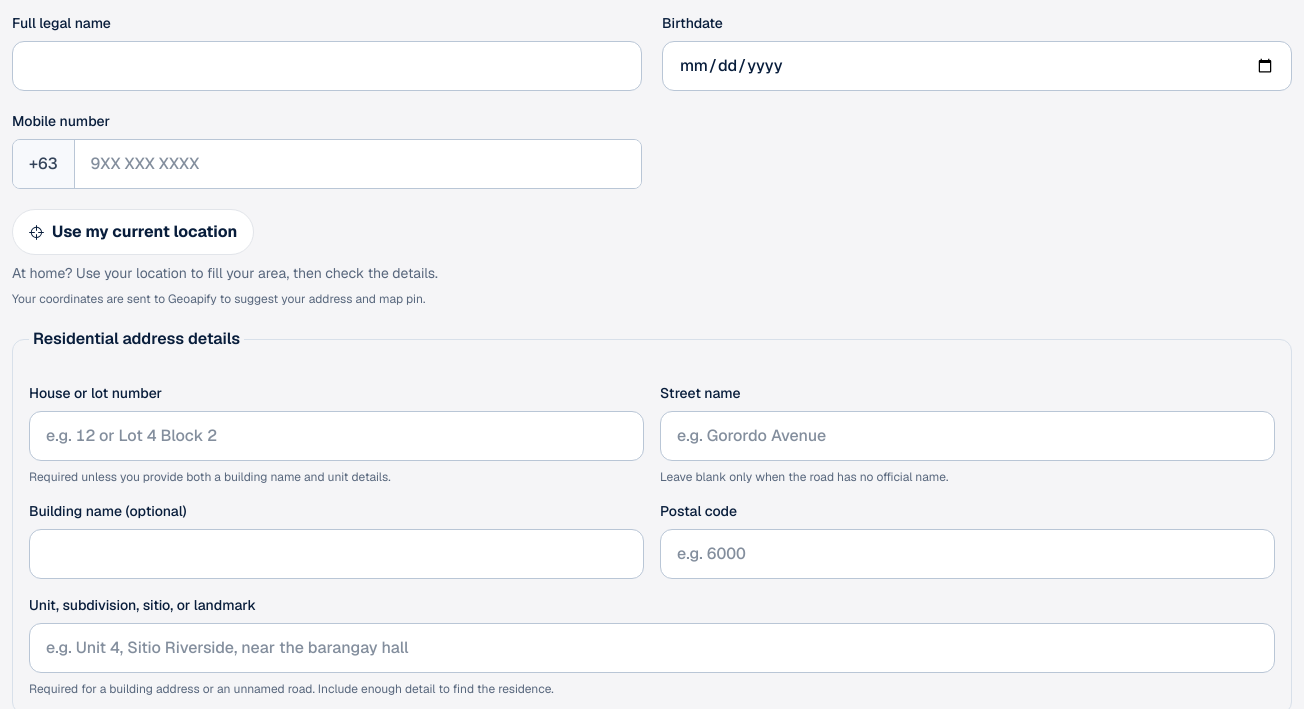
Scenario: preserves entered KYC details after authorization fails
Type "Synthetic Renter" into the field labelled "Full legal name" at (327, 66), box top-left (12, 41), bottom-right (642, 91)
Type "1990-01-15" into the date field labelled "Birthdate" at (977, 66), box top-left (662, 41), bottom-right (1292, 91)
Type "+639170000000" into the field labelled "Mobile number +63" at (358, 164), box top-left (75, 140), bottom-right (641, 188)
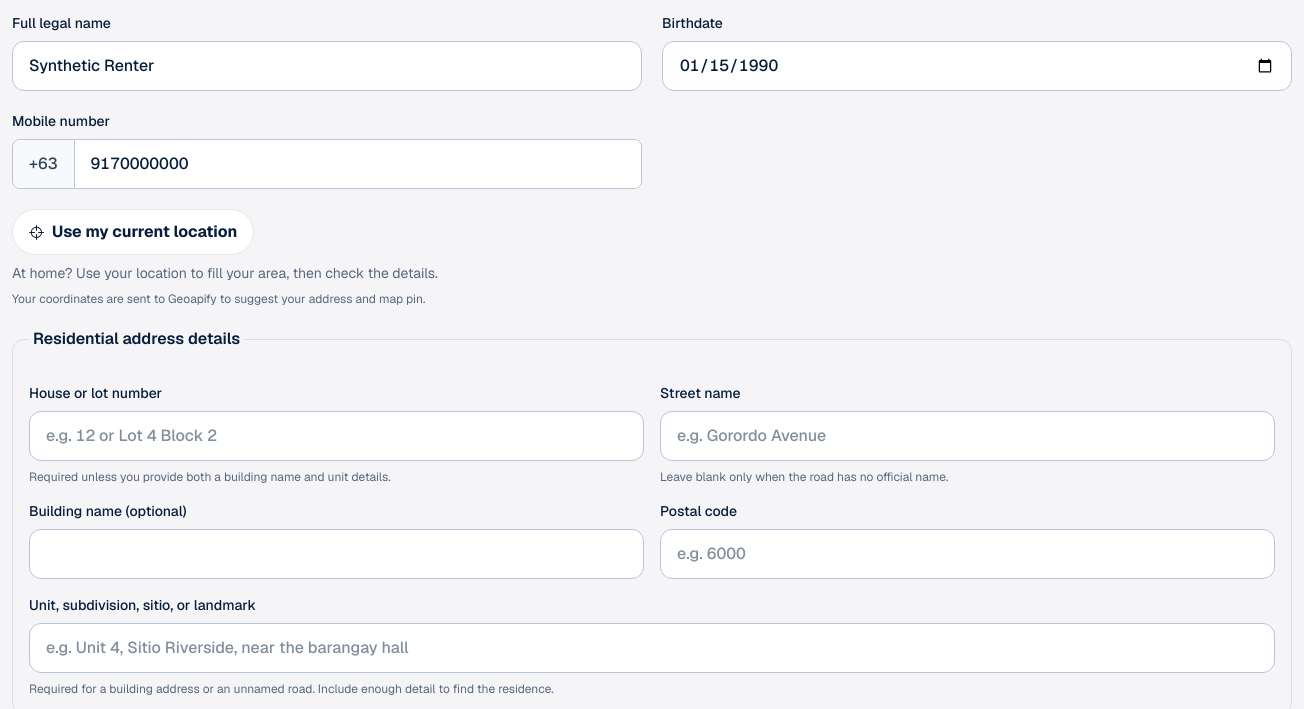
Type "12" into the 3rd field at (336, 436), box top-left (29, 411), bottom-right (644, 461)
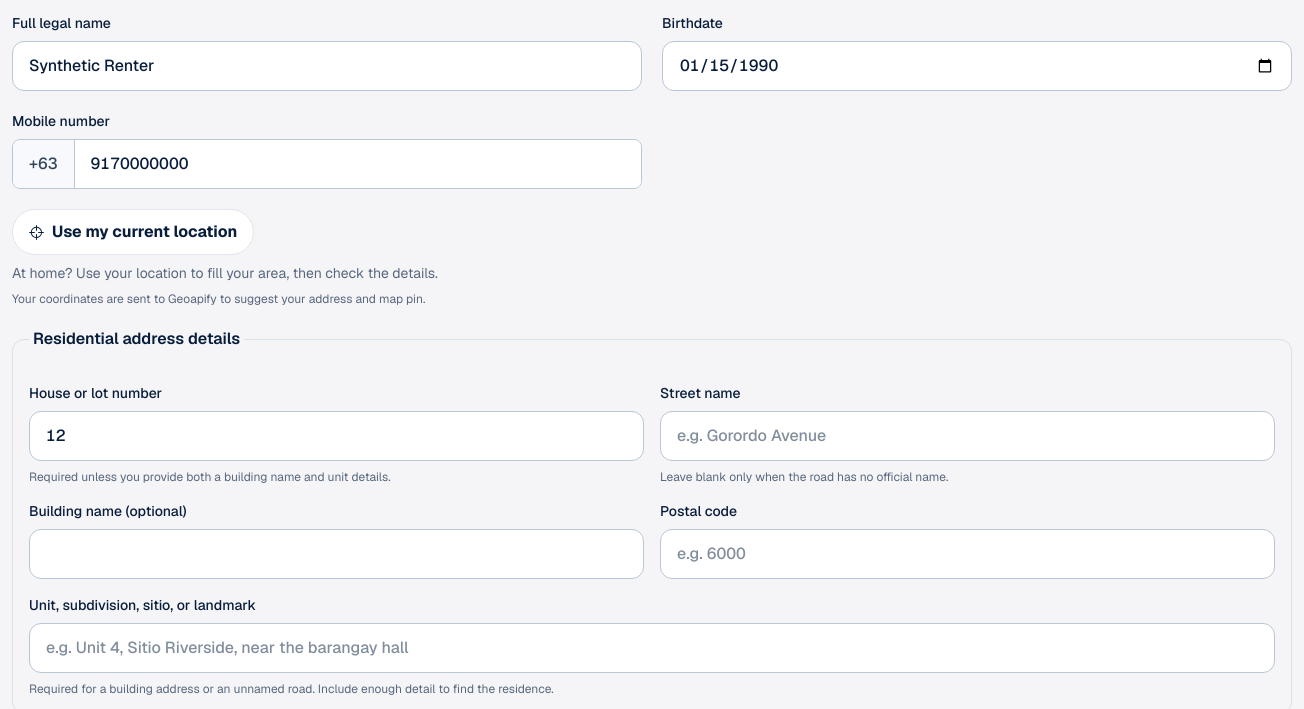
Type "Synthetic Street" into the 4th field at (968, 436), box top-left (660, 411), bottom-right (1275, 461)
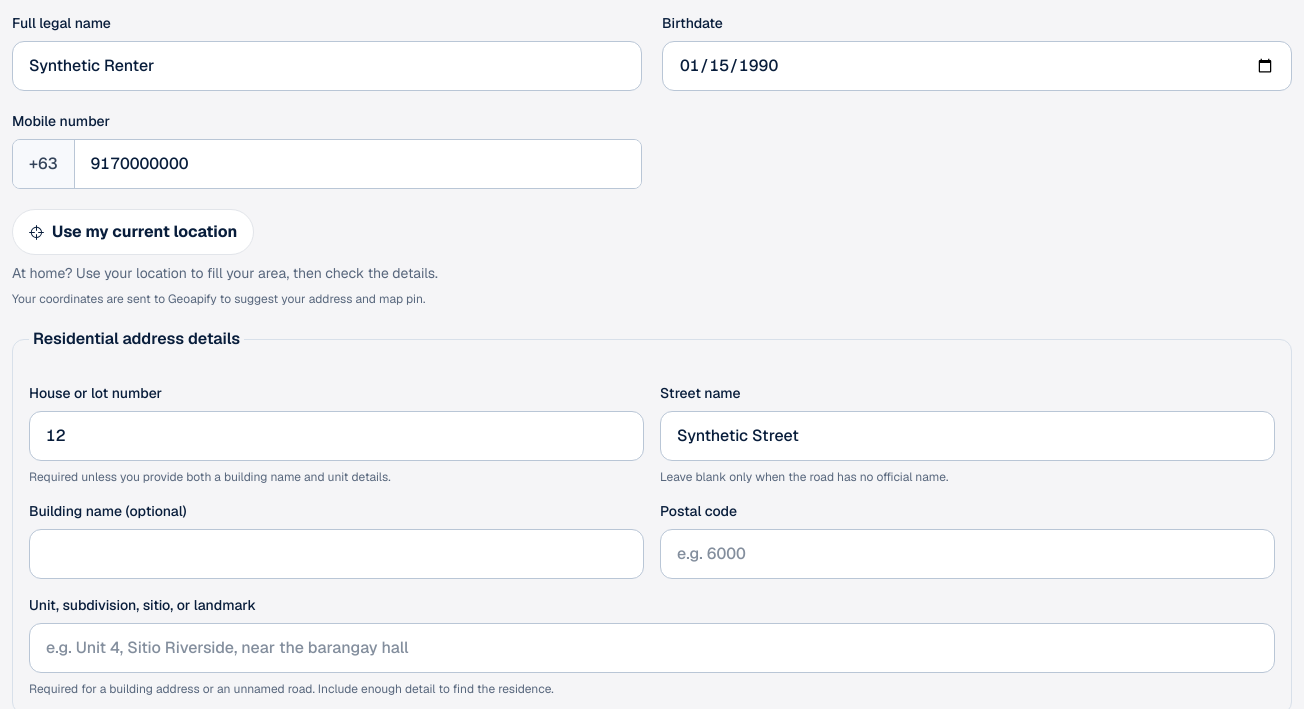
Type "6000" into the field labelled "Postal code" at (968, 554), box top-left (660, 529), bottom-right (1275, 579)
(page scrolled)
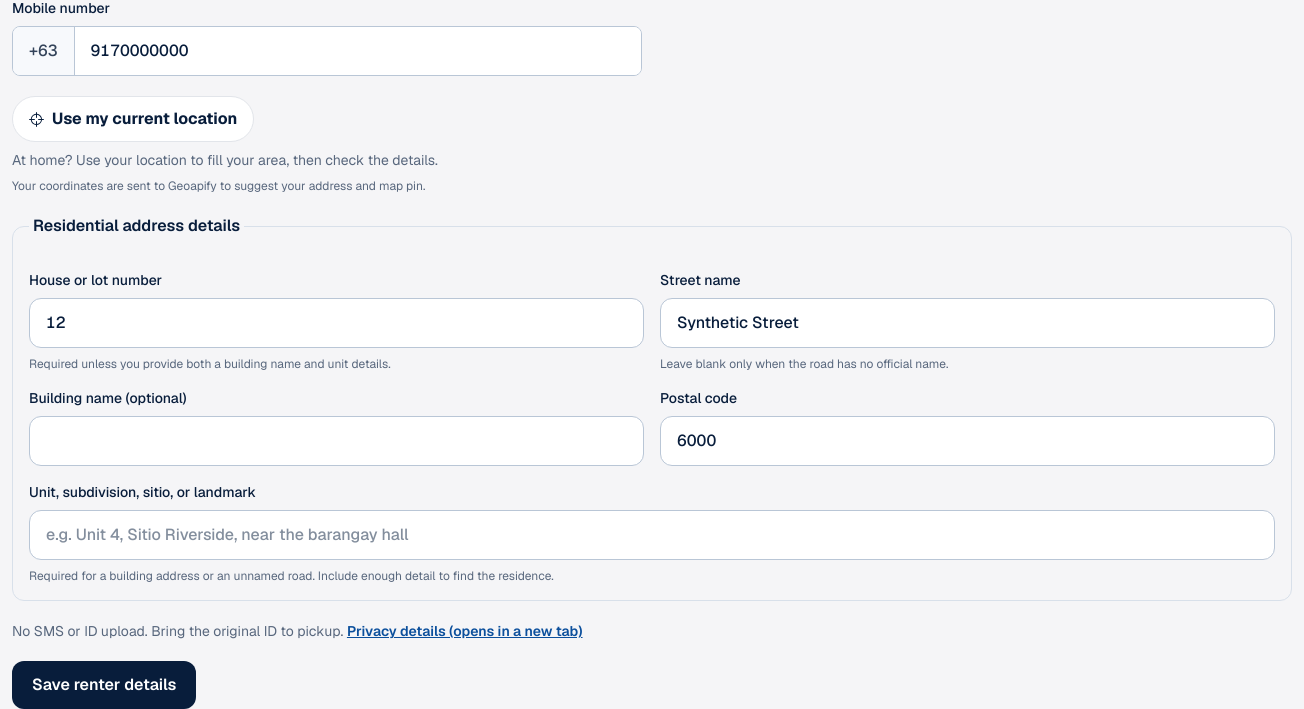
Click the submit button at (104, 685), box top-left (12, 661), bottom-right (196, 708)
(page scrolled)
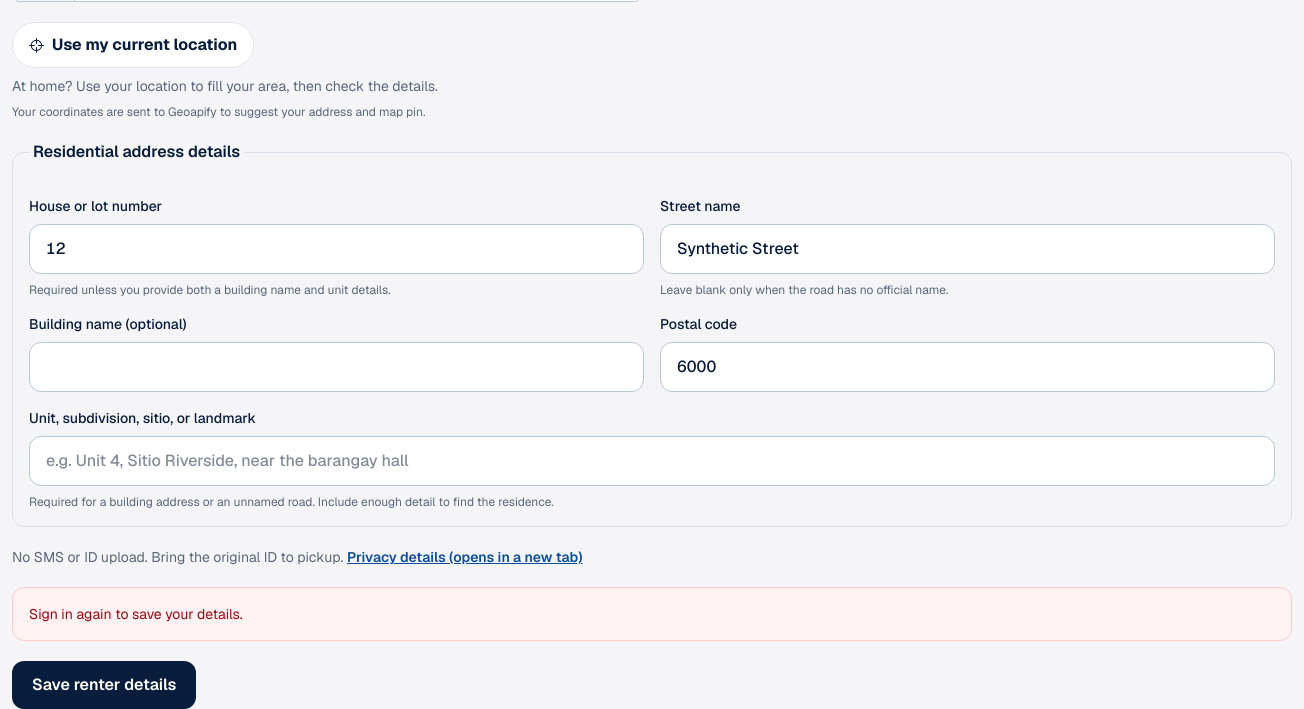
Now the text "Sign in again to save your details." is shown, box top-left (12, 587), bottom-right (1292, 641)
Click the submit button at (104, 685), box top-left (12, 661), bottom-right (196, 708)
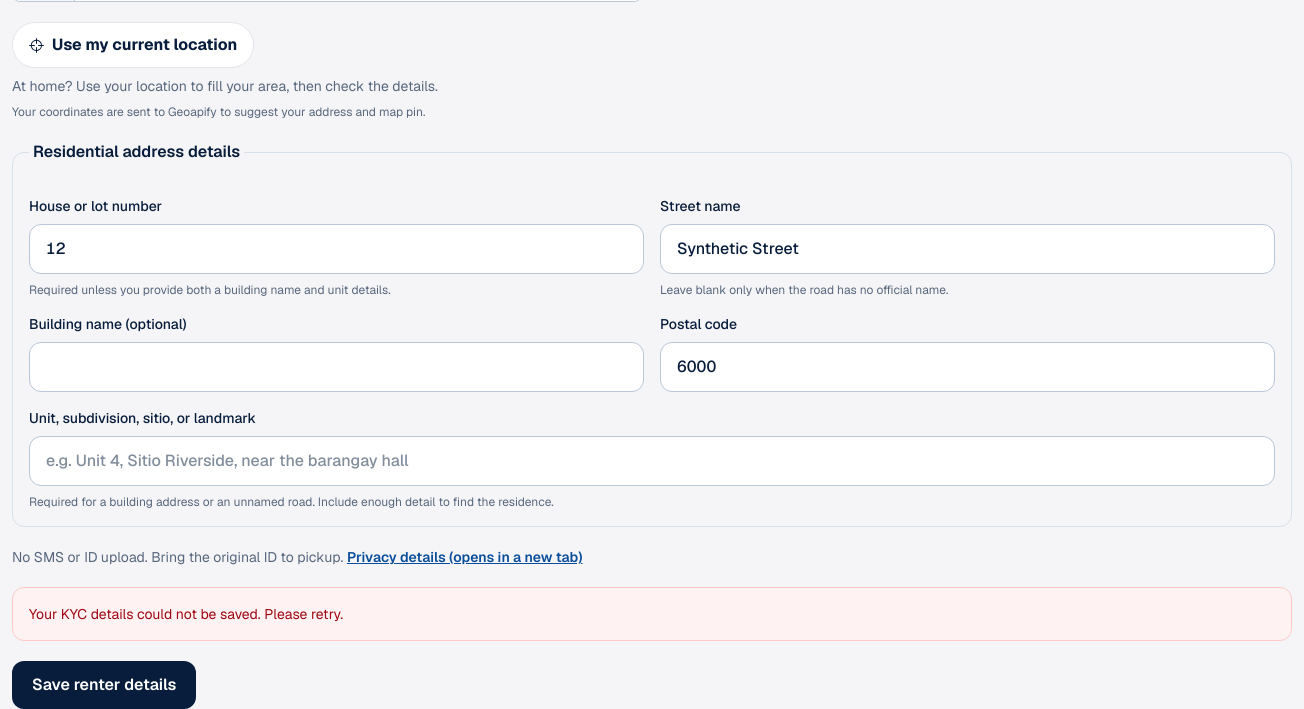
Now the text "Your KYC details could not be saved. Please retry." is shown, box top-left (12, 587), bottom-right (1292, 641)
